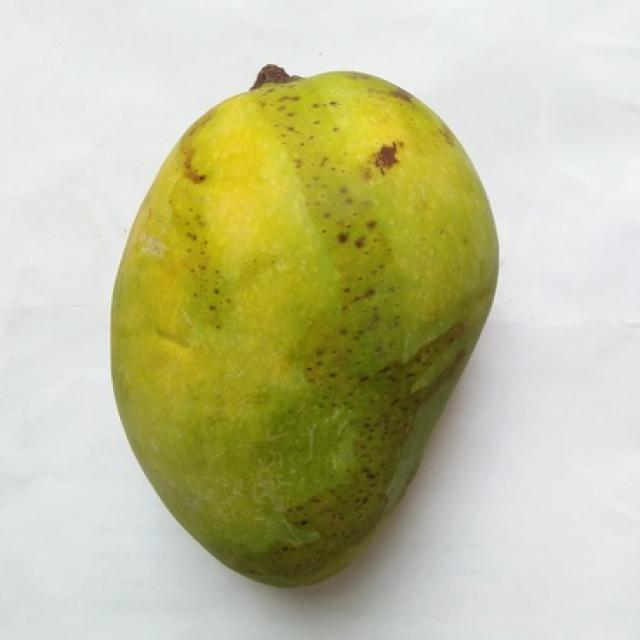Mango: (113, 73, 492, 584)
